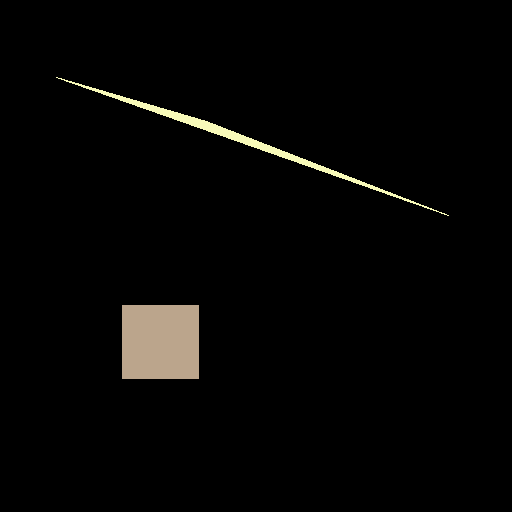square: (122, 305, 198, 378)
